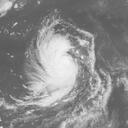cyclone: (22, 18, 96, 102)
